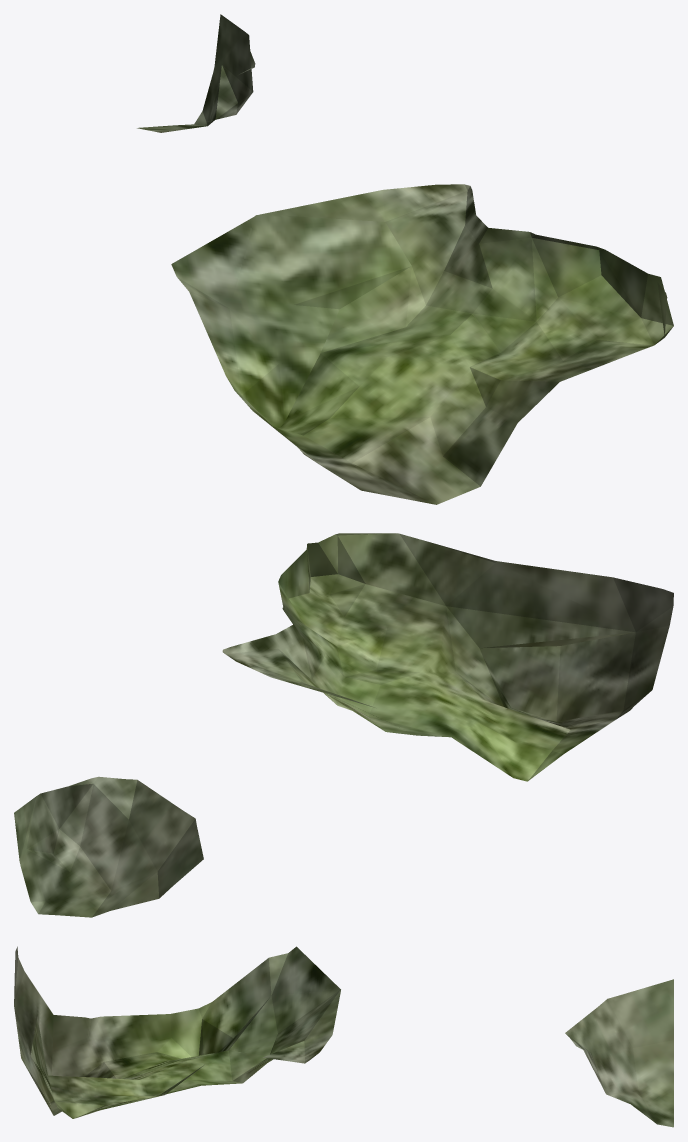
3 renders of one model, top to bottom at view 1: azimuth 30°, elevation 25°; view 2: azimuth 150°, elevation 25°; view 3: azimuth 270°, elevation 25°, orthographic. The views are drawn at different scales.
Size of the model in its own units: 1.36 by 0.5456 by 2.81.
Materials: 1 (1 with a texture image).
